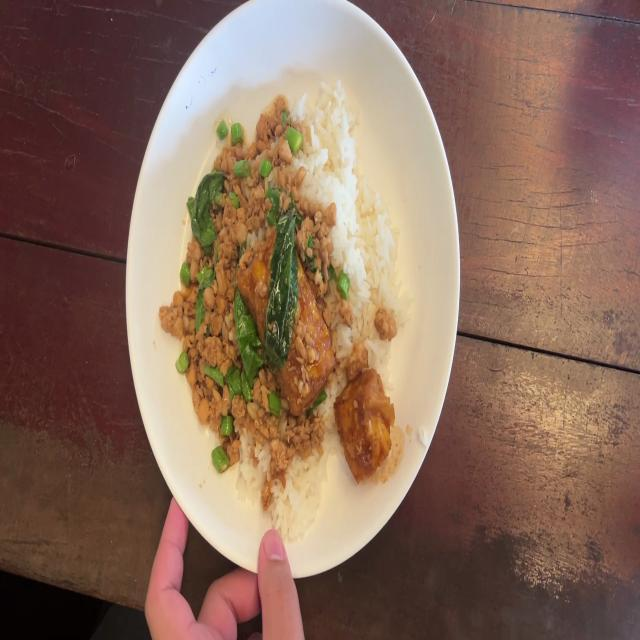01rice: (313, 78, 399, 364), (249, 466, 325, 541)
fried_tofo: (251, 238, 325, 400), (337, 374, 388, 464)
minced_pork: (165, 112, 248, 479), (246, 102, 308, 240), (248, 406, 314, 491)
stir_fried_basil: (160, 78, 396, 528)
